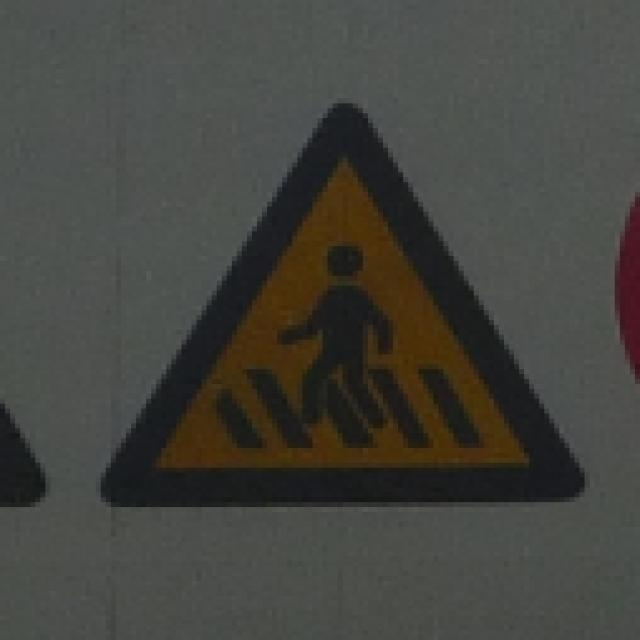Crossing: (82, 83, 604, 525)
